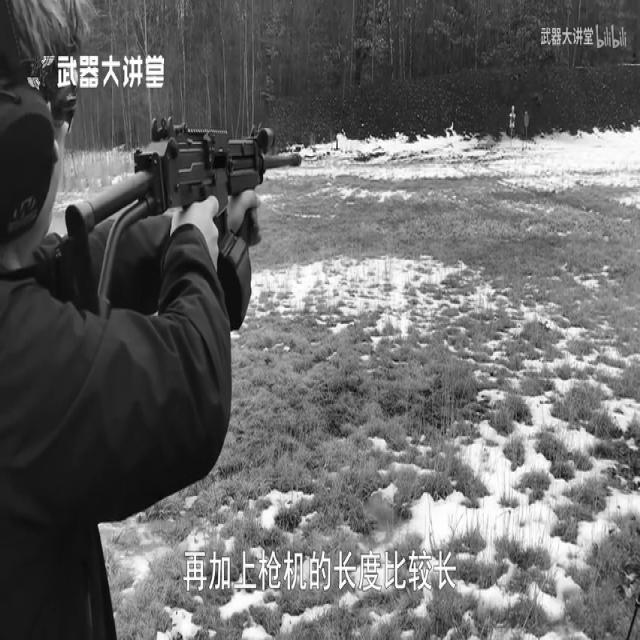Sub-machine-gun: (81, 106, 319, 287)
